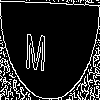M: (25, 24, 46, 71)
